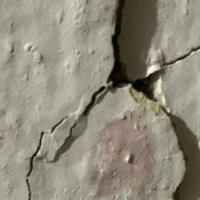crack: (25, 4, 171, 199)
